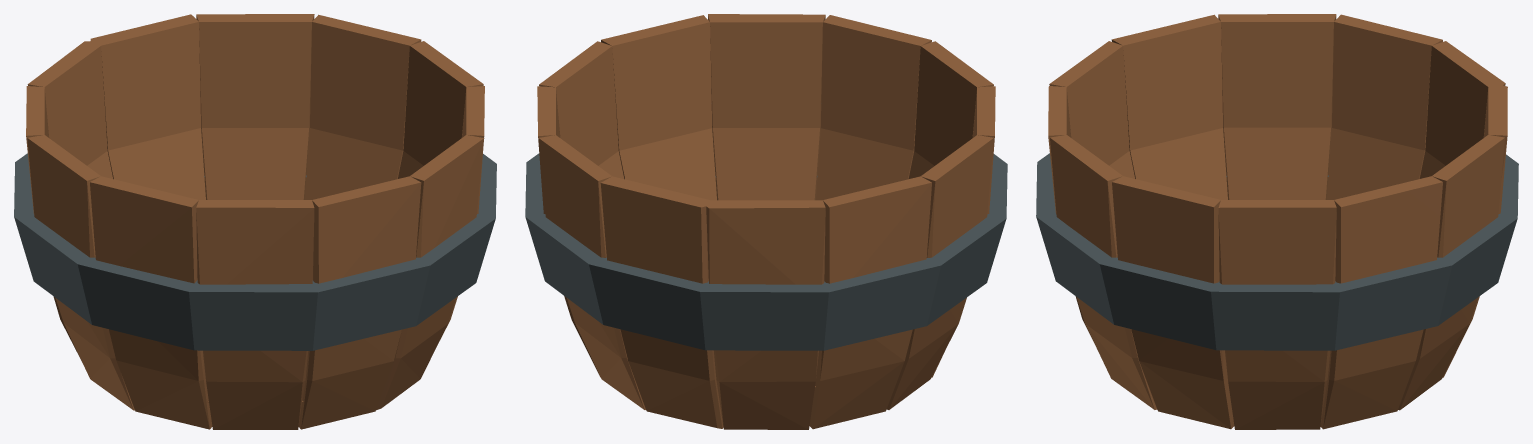
File: Bucket_01.fbx
3 views of the same model, side by side, from view 1: azimuth 30°, elevation 25°; view 2: azimuth 150°, elevation 25°; view 3: azimuth 270°, elevation 25° (orthographic).
Parts seen in each view (by area): view 1: Bucket_01; view 2: Bucket_01; view 3: Bucket_01.
Boxes of the visible parts, x1,y1,x2,y2 form: Bucket_01: [14, 14, 496, 429]; Bucket_01: [525, 14, 1007, 429]; Bucket_01: [1036, 14, 1518, 429].
Bounding box in the file's own units: 55.6 × 31.73 × 55.6.
